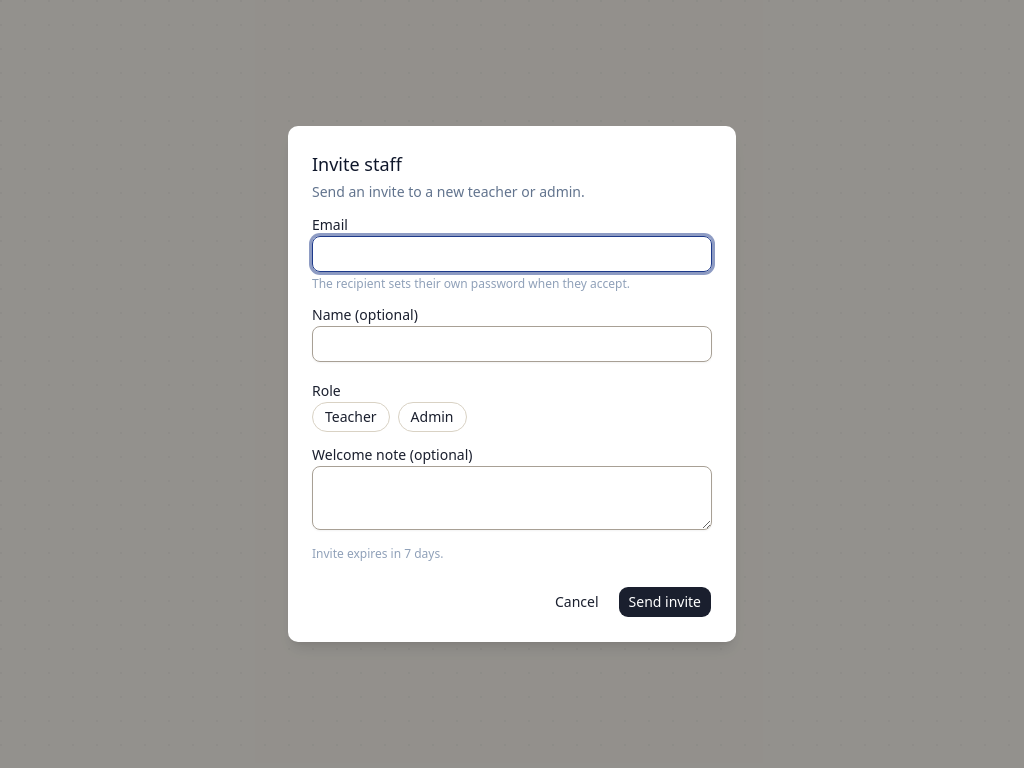
Test: InviteStaffModal — validation + error mapping (AC17/AC18) › P1 403 ROLE_ASSIGNMENT_FORBIDDEN maps to its i18n copy
In the field labelled "Email": (512, 254) [312,236,712,272], type "x@example.com"
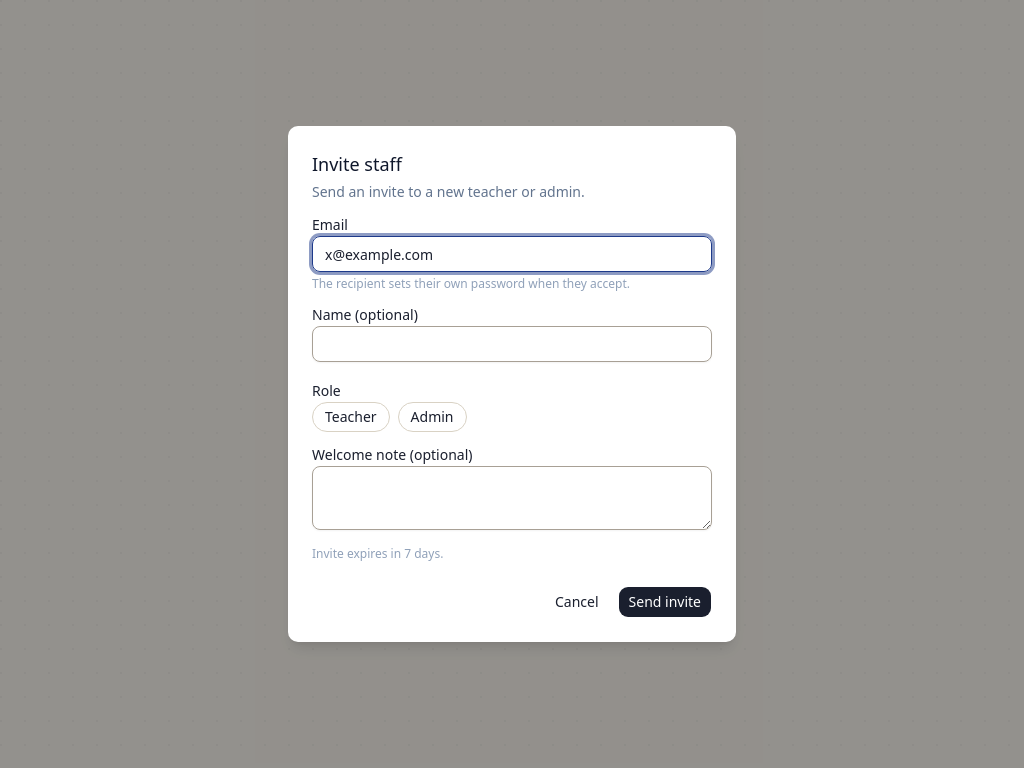
Click the button with test id "role-chip-admin": (432, 417) [398,402,466,432]
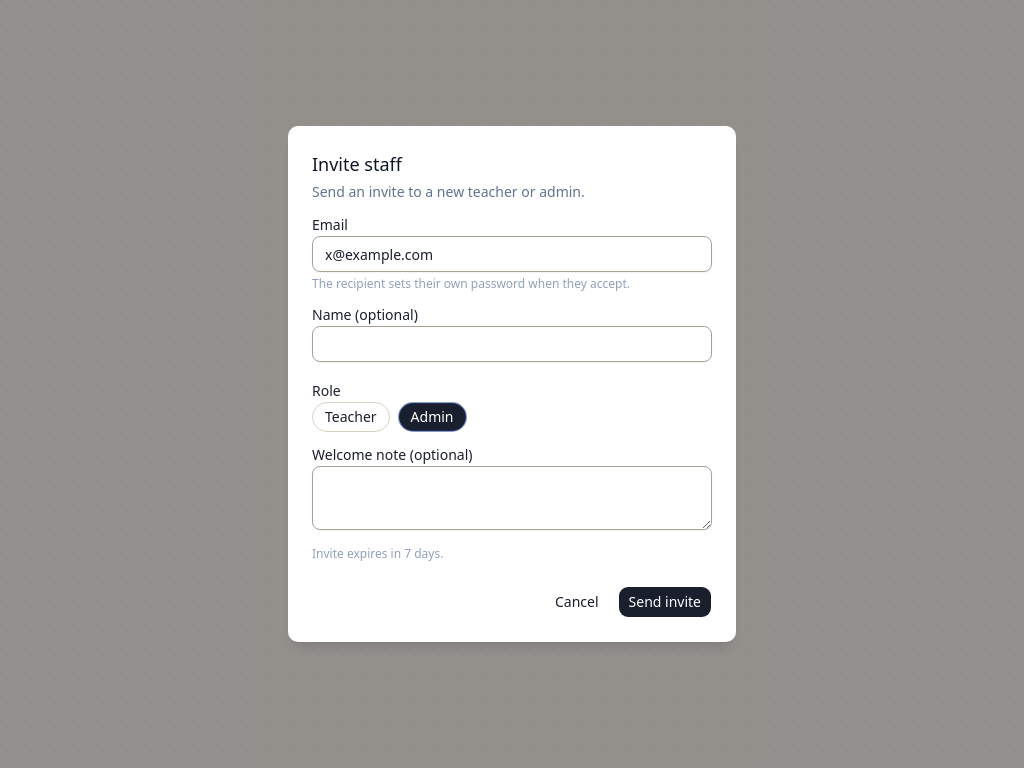
Click the button "Send invite": (665, 602) [618,586,712,618]
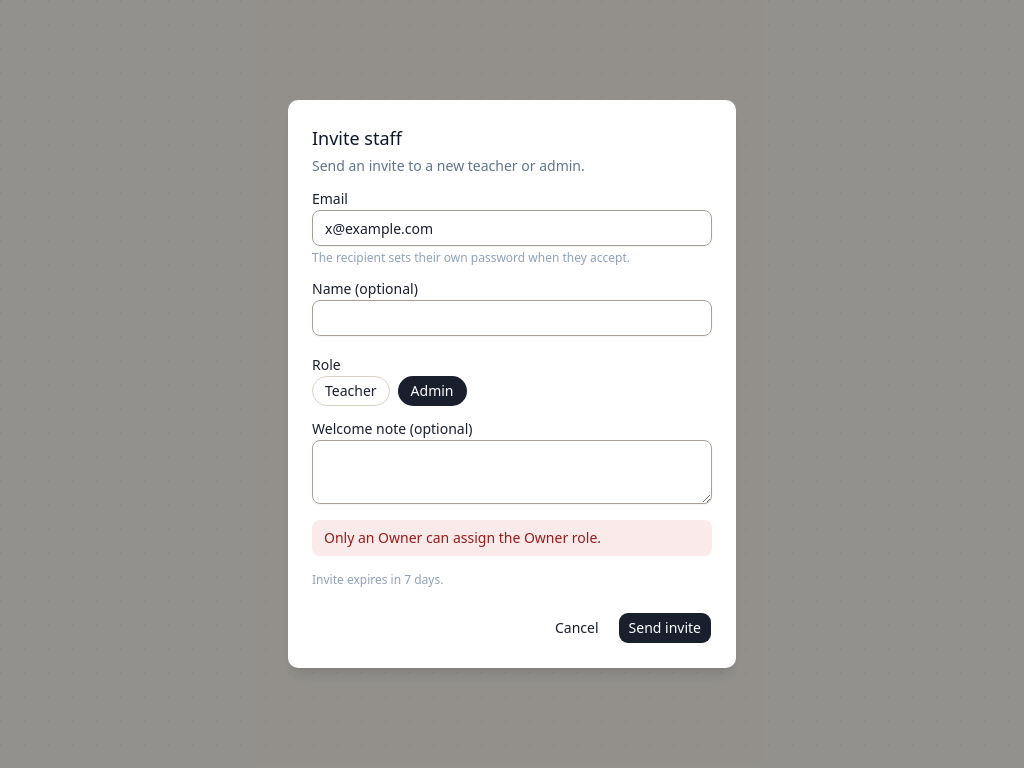
Expected: the text "Only an Owner can assign the Owner role." is shown, [312,520,712,556]
